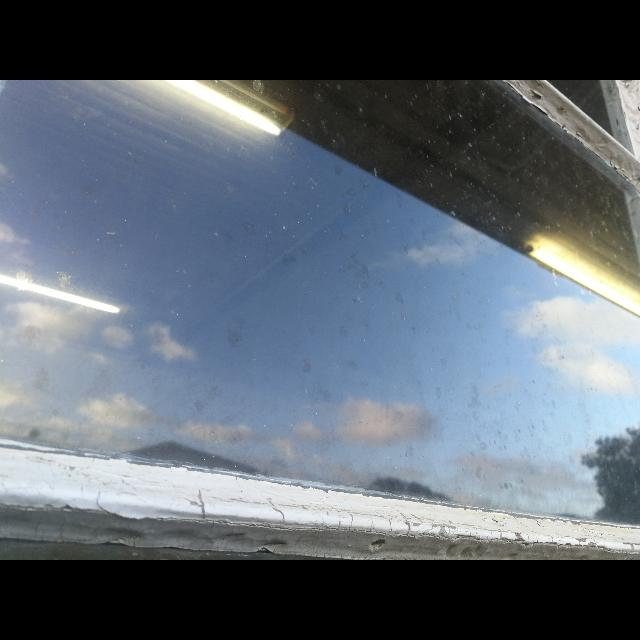Straight-Tube-Fluorescent-Lamp: (496, 226, 640, 342), (104, 80, 292, 146), (0, 268, 132, 316)
